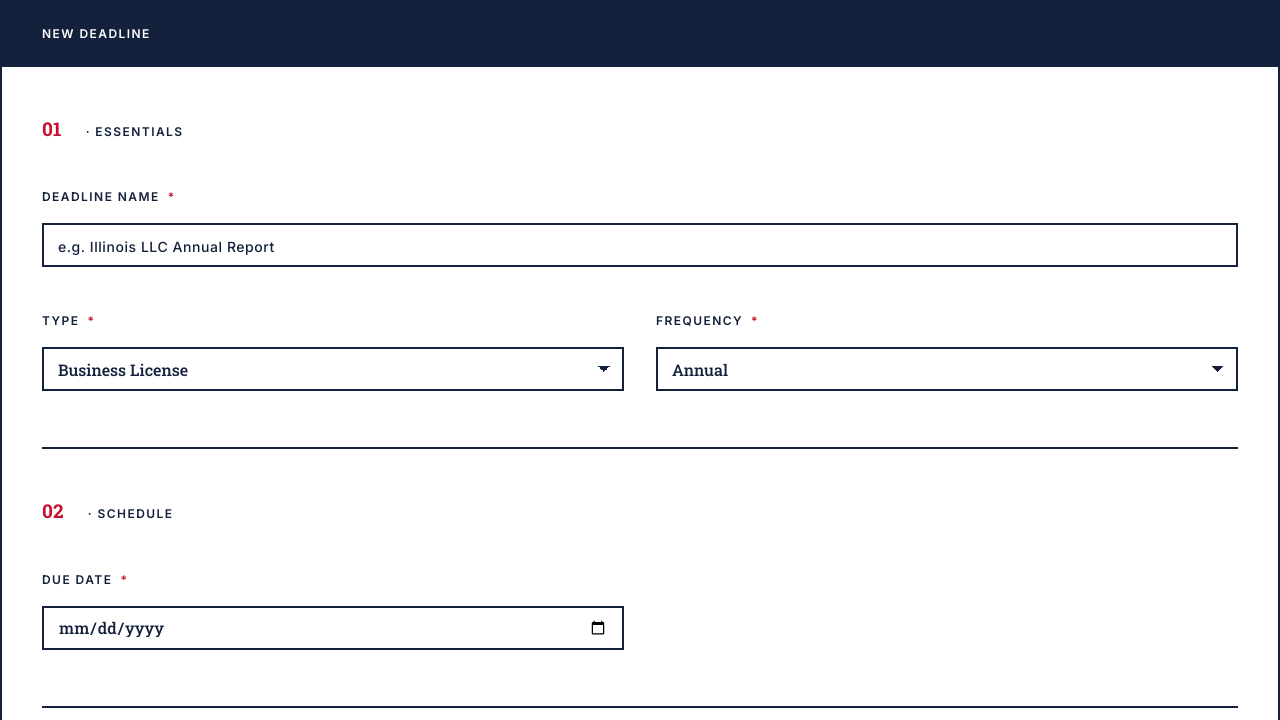
Scenario: DeadlineForm (create mode) › shows error message on failed insert
Type "Test Deadline" into the field with placeholder "e.g. Illinois LLC Annual Report" at (640, 245), box x1=42 y1=223 x2=1238 y2=267
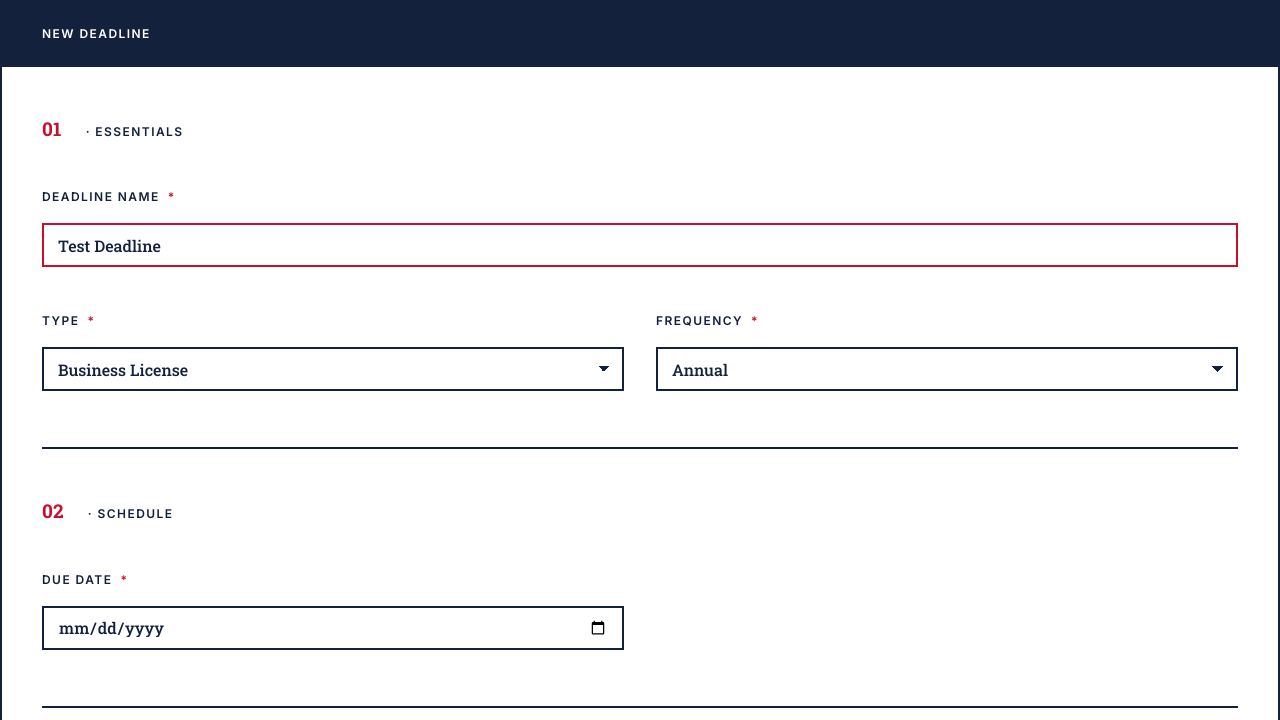
Type "2027-06-15" into the date field labelled "DUE DATE*" at (333, 628), box x1=42 y1=606 x2=624 y2=650
(page scrolled)
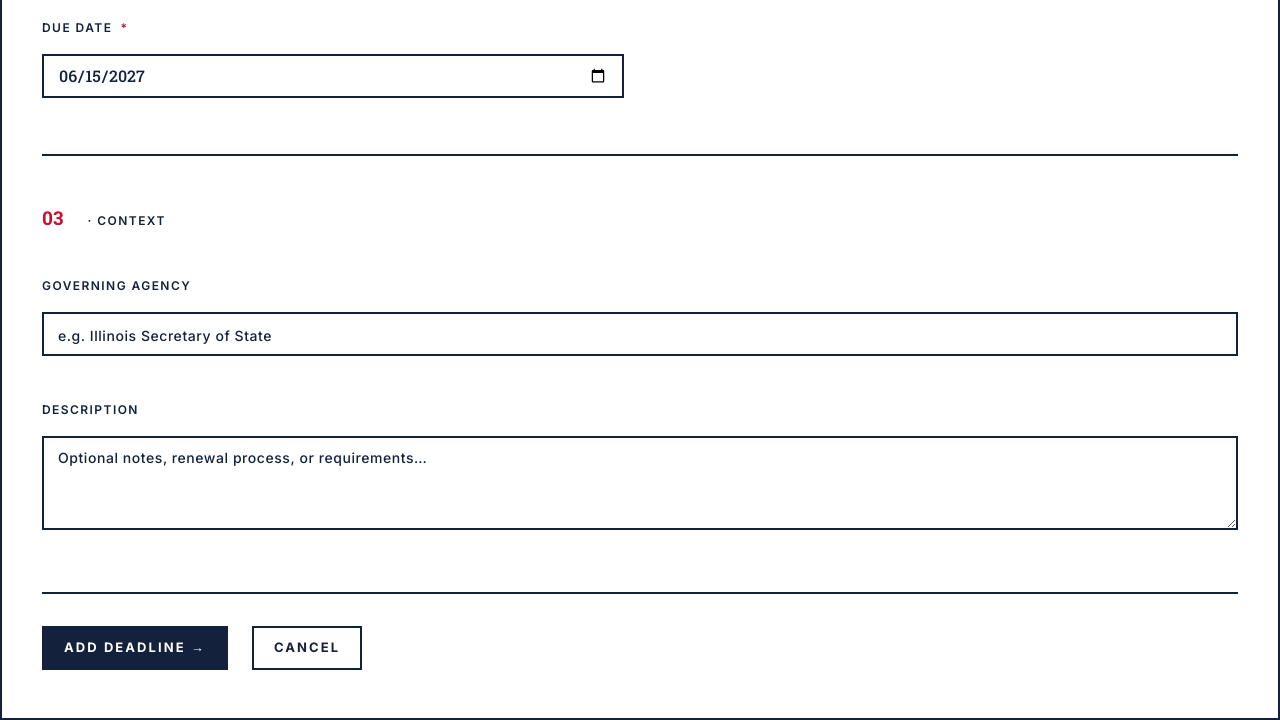
Click the button "Add Deadline →" at (135, 648), box x1=42 y1=626 x2=228 y2=670
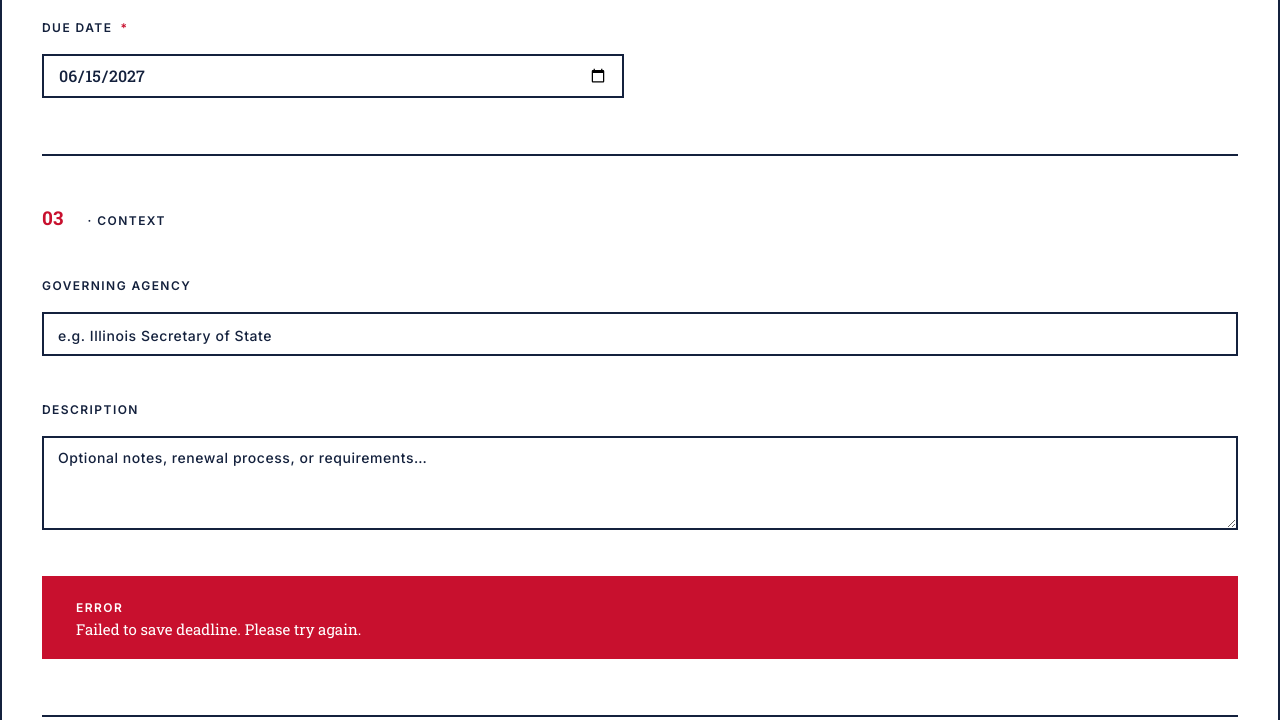
expect the text "Failed to save deadline. Please try again." is shown: met, box x1=76 y1=619 x2=361 y2=639
